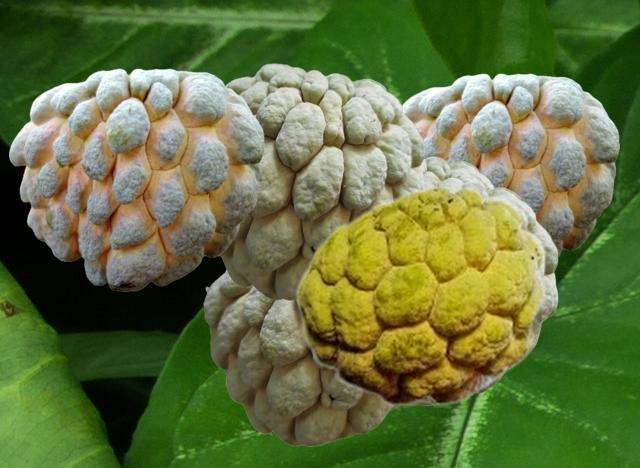atis: (9, 68, 263, 290), (294, 184, 546, 406), (219, 63, 424, 299), (402, 73, 618, 258), (203, 270, 397, 445), (417, 174, 557, 404), (422, 154, 494, 188)
